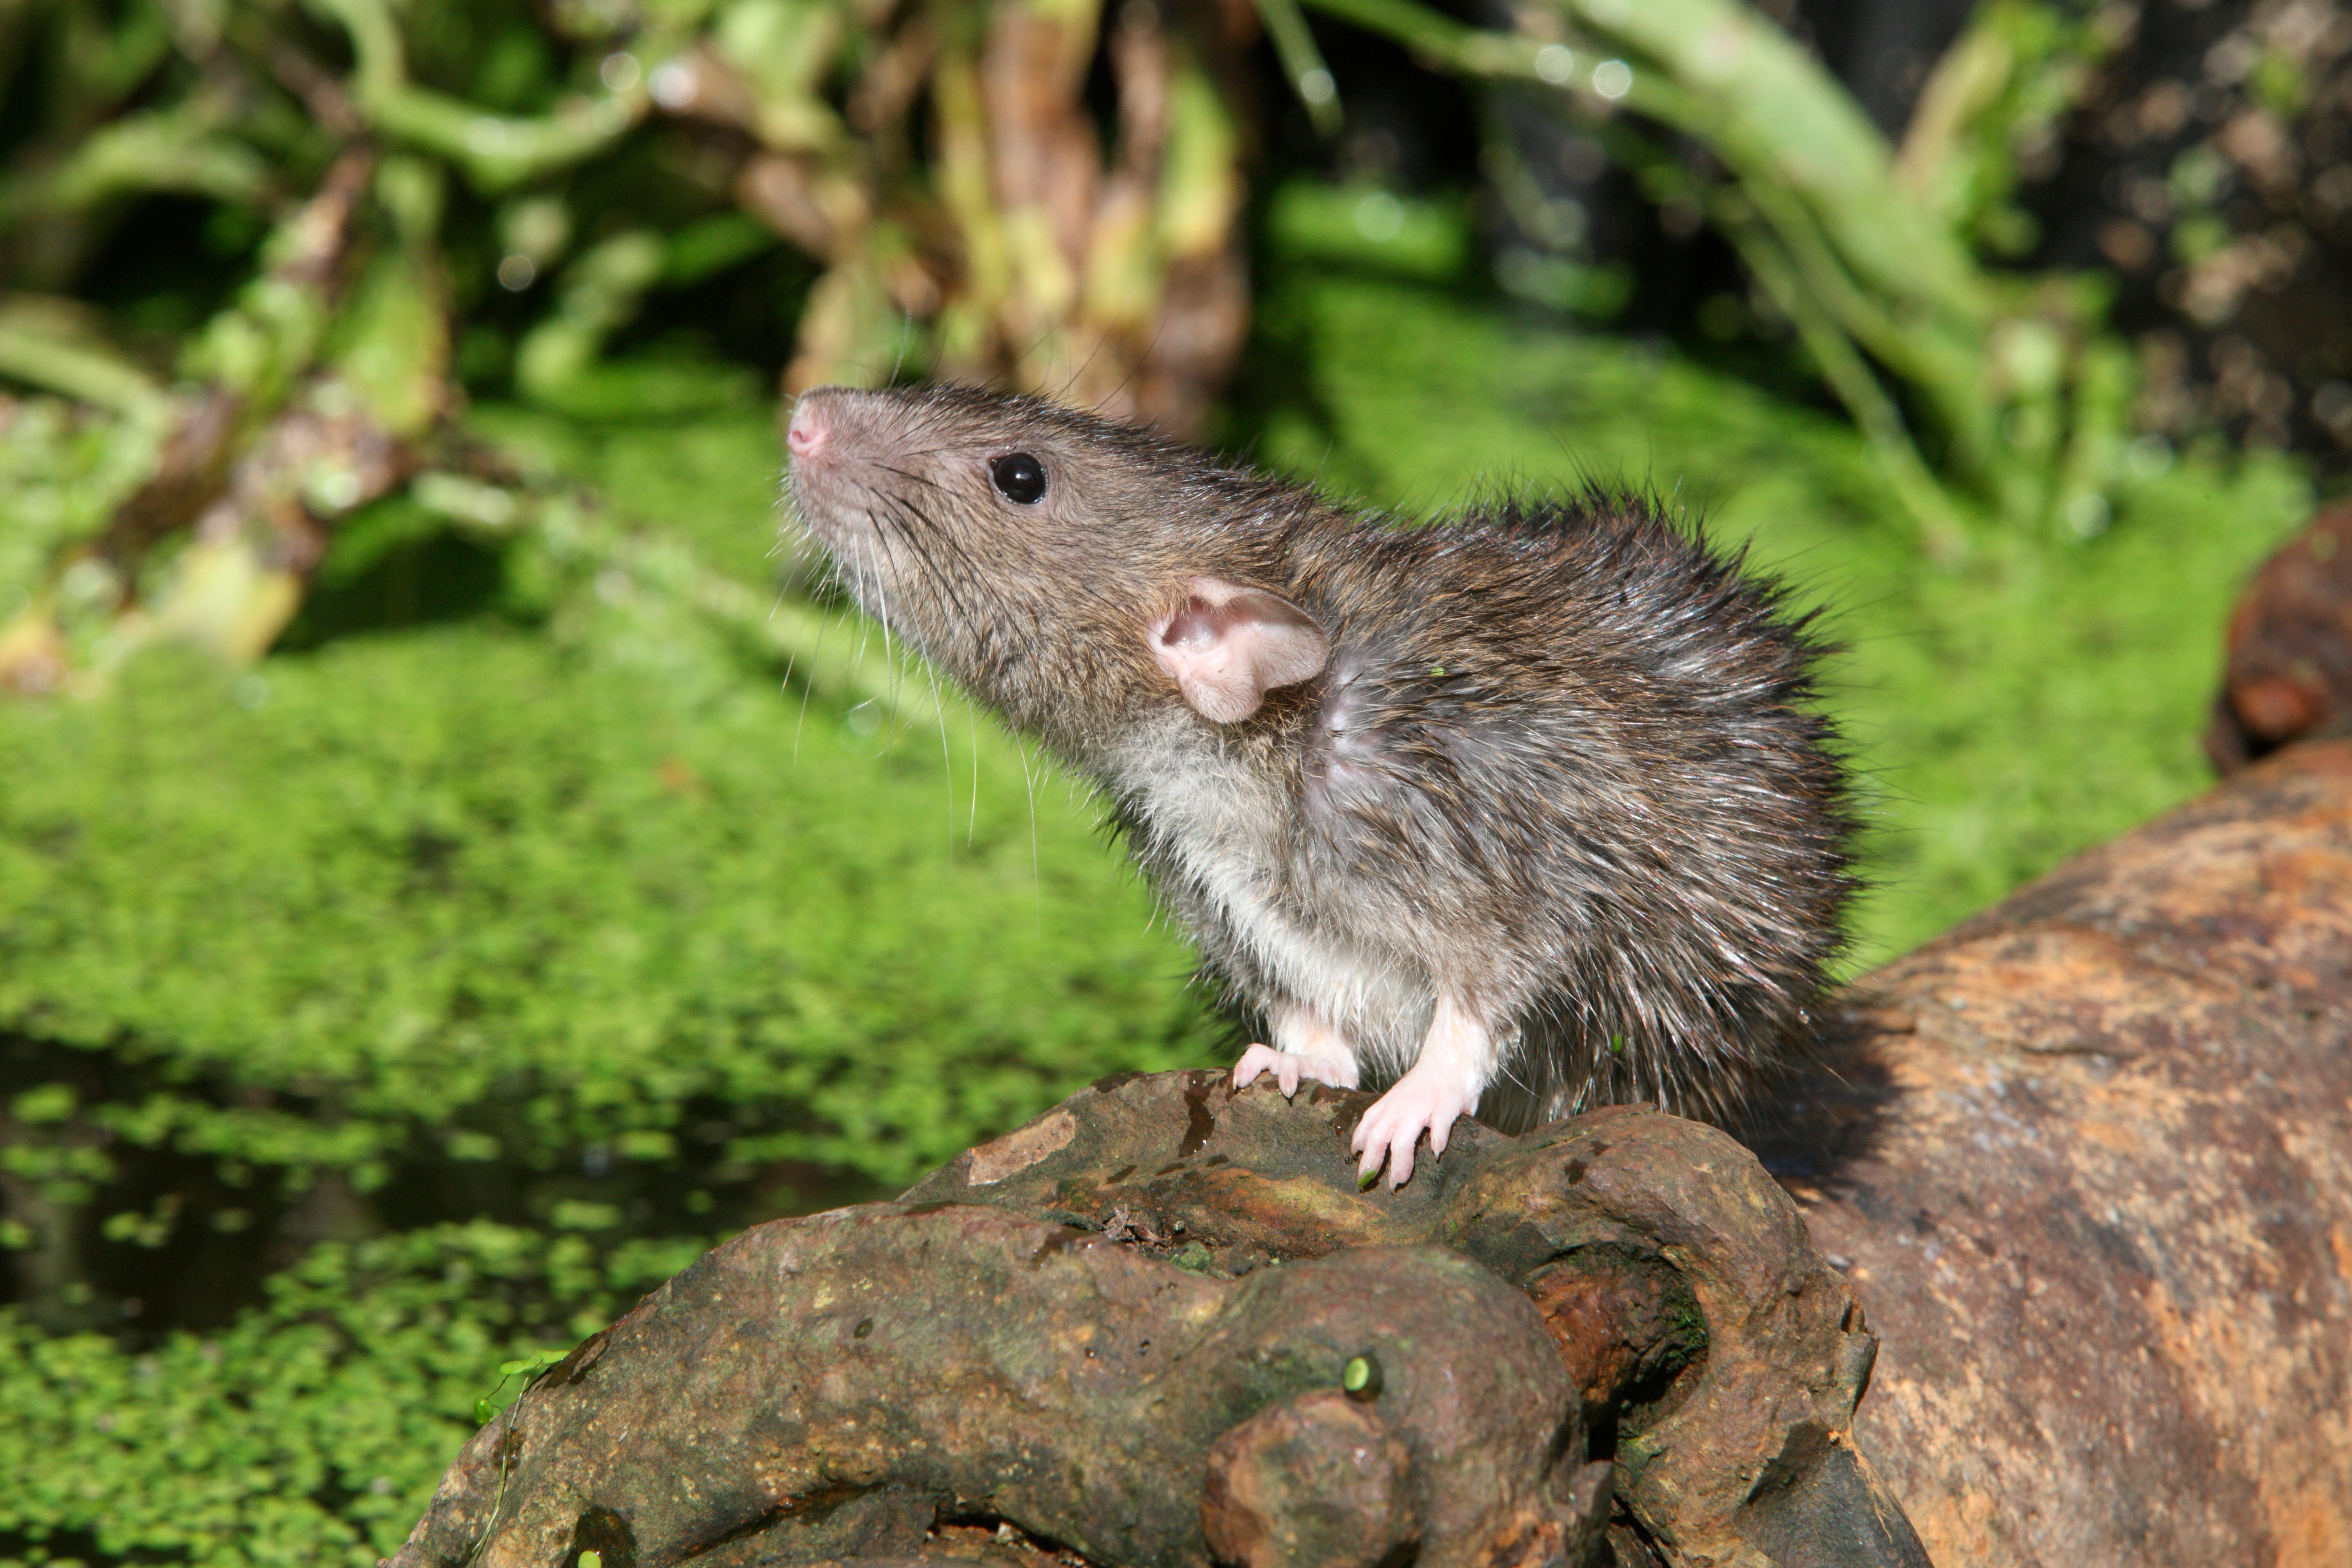Rat: (737, 327, 1904, 1213)
